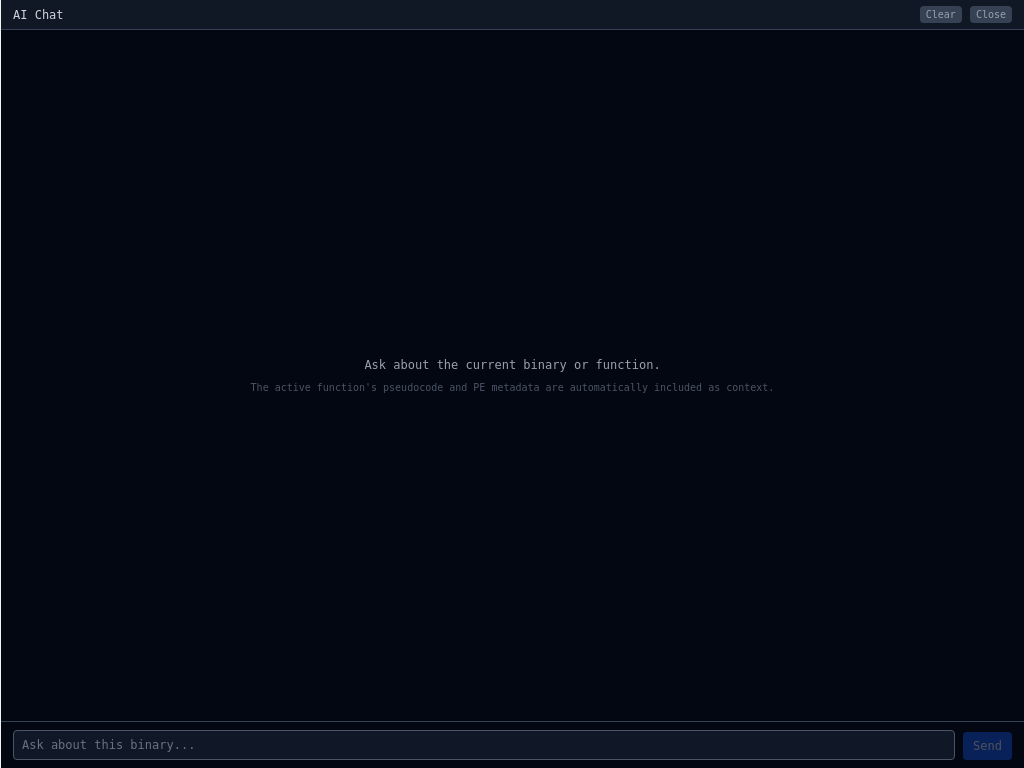
Test case: the gate says which profile it looked at, and what is wrong with it › says nothing about position when there is only one profile
Type "hello" into the text box with placeholder "Ask about this binary...". click: (484, 745)
box: [13, 730, 955, 760]
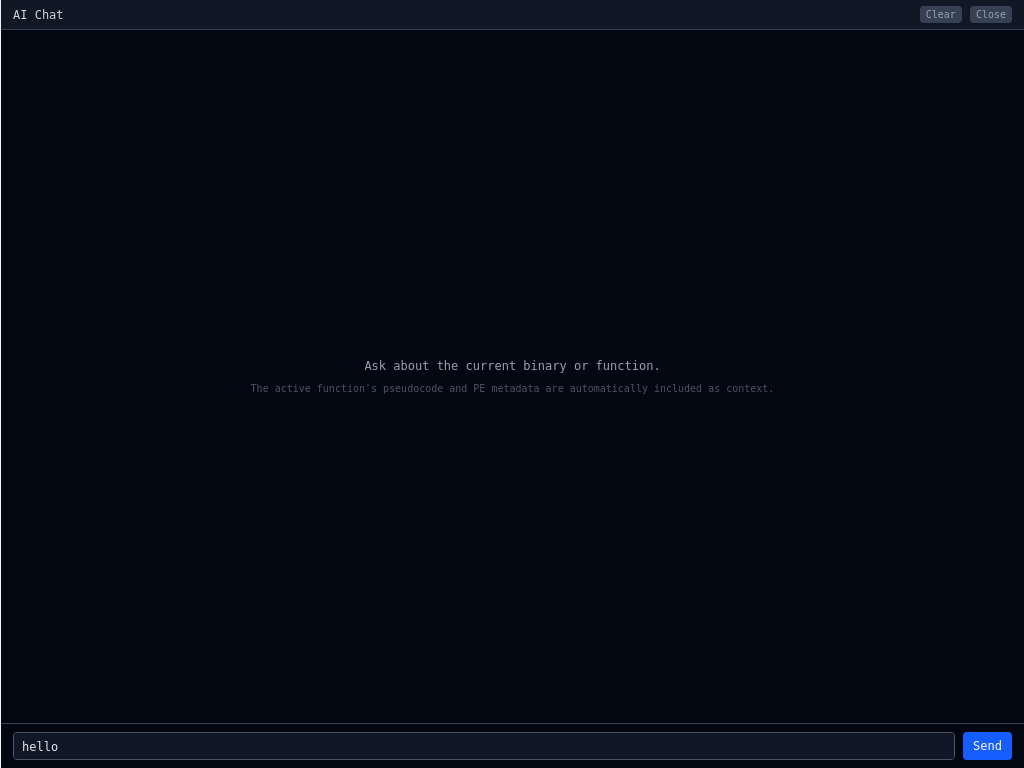
Click the button "Send". click: (988, 746)
box: [963, 732, 1012, 760]
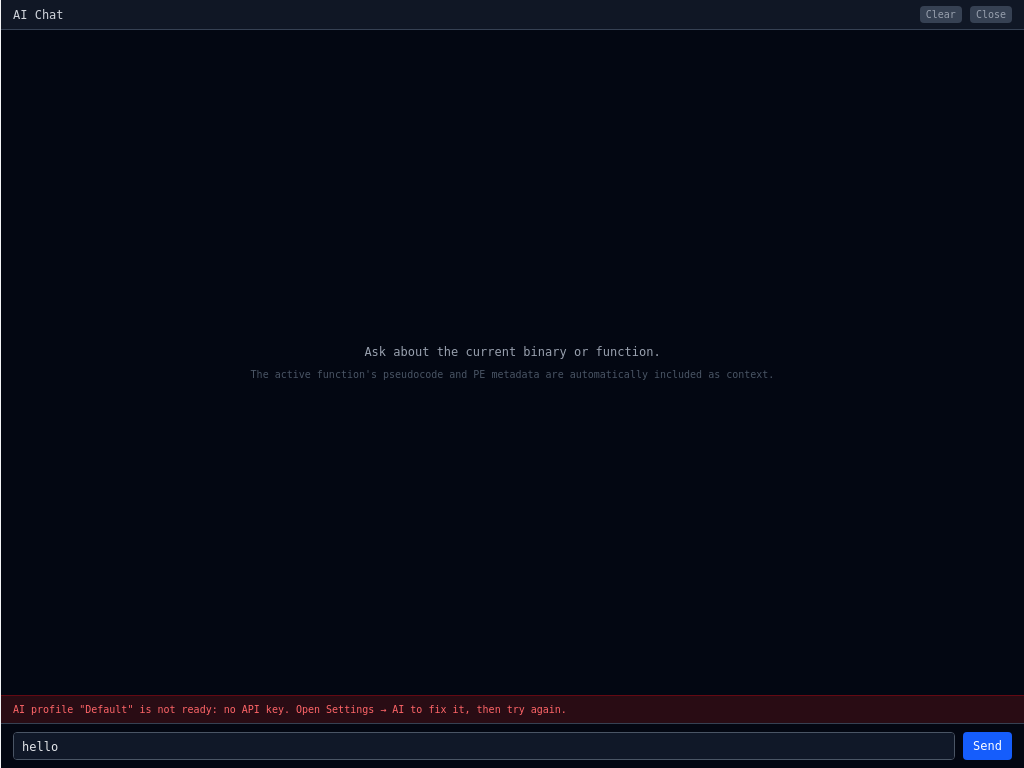
Result: the text "AI profile \"Default\" is not ready: no API key." is shown at [13, 704, 567, 715]
